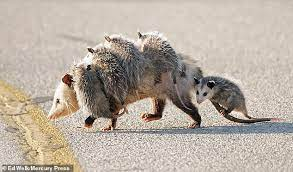opossum: (46, 51, 281, 128), (138, 32, 194, 113), (64, 59, 127, 124), (191, 73, 272, 122), (84, 41, 130, 108)
